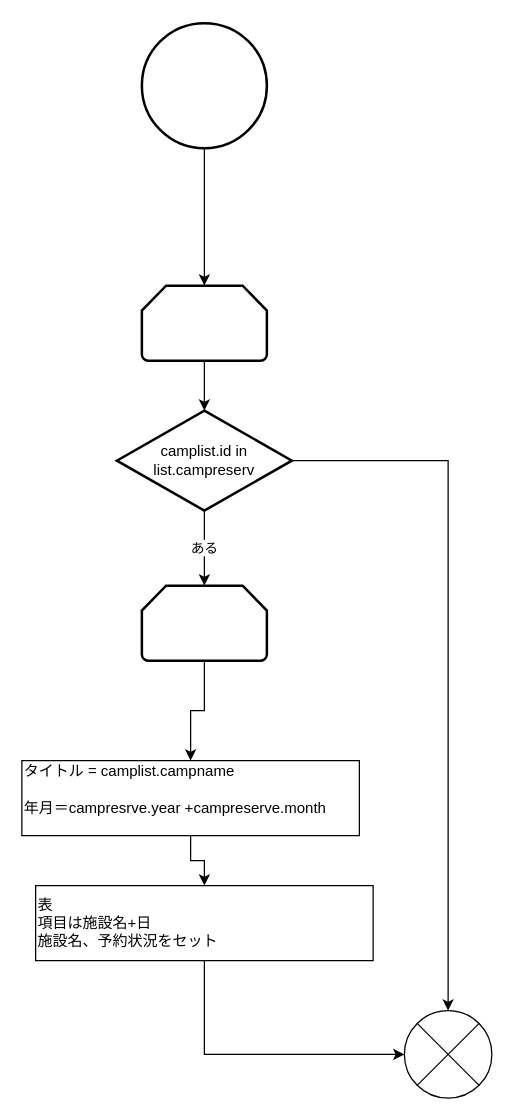
This 514x1120 diagram has some shape labels left out. Each missing label, with the centre of its shape:
"campid==campid" goes at (x=204, y=622).
"camplist" goes at (x=204, y=322).
